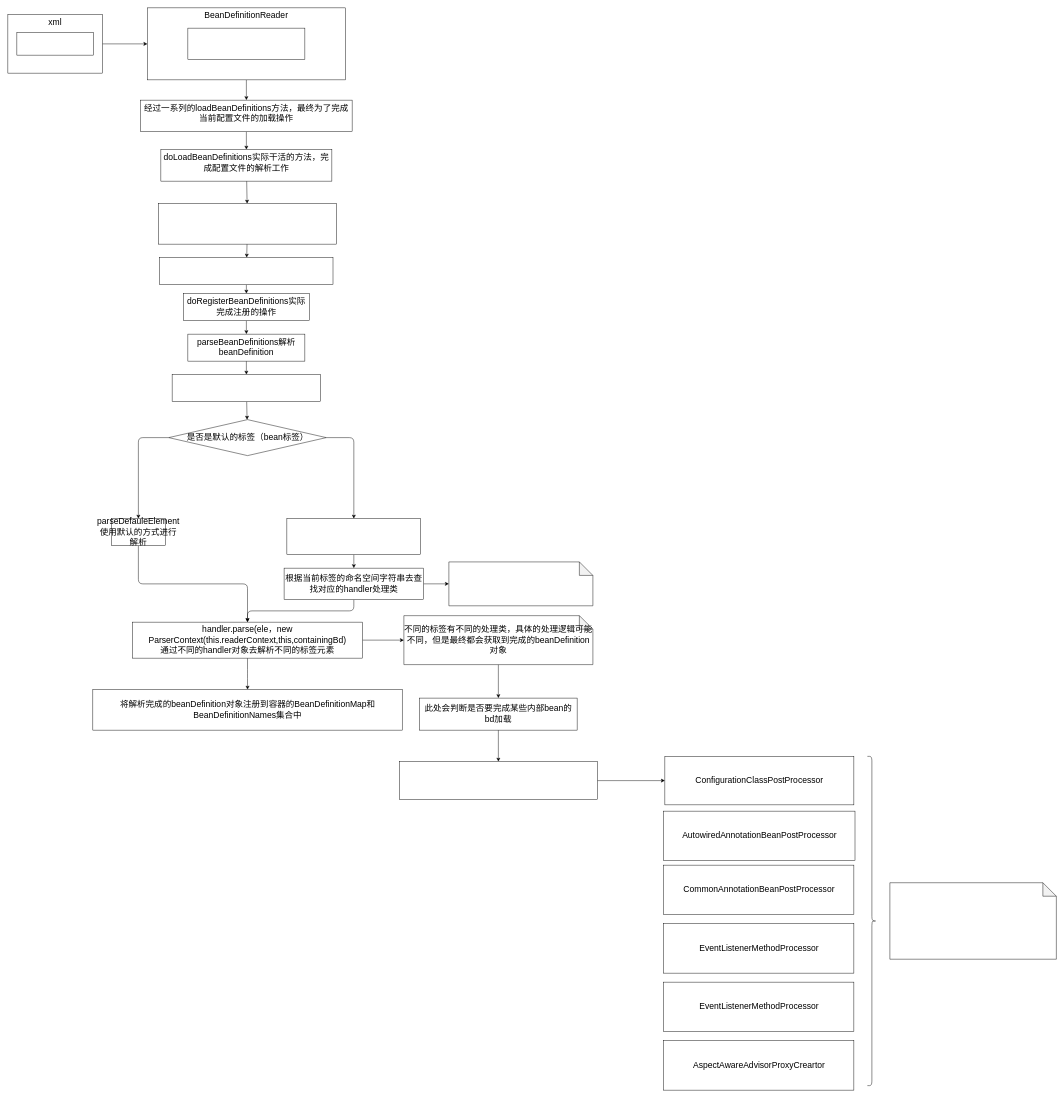
Image size: 1064x1098. Some labels were removed from this diagram. Each missing label, with the box of its shape:
Bean定义信息: (16, 32, 93, 55)
doLoadDocument将配置文件解析成文档对象，方便通过父子节点的方式获取出对应的元素标签: (158, 203, 336, 244)
parseCustomElement使用额外的方式进行解析: (286, 518, 421, 555)
registerBeanDefinitions解析标签元素，且完成注册功能（Map）: (159, 257, 333, 285)
Spring.handlers: (448, 561, 593, 606)
XmlBeanDefinitionReader: (187, 28, 305, 60)
有一堆internal的内部对象，大部分跟注解相关: (399, 761, 597, 800)
这些internal对象可以在AnnotaionConfigUtil和AopConfigUtil中看到: (889, 882, 1056, 959)
遍历外层标签中的子标签，然后开始判断使用什么样的方式进行解析操作: (172, 374, 321, 402)
